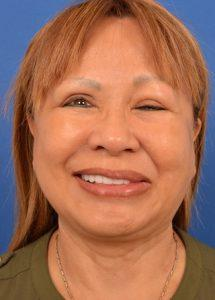strokeEyeSevere: (52, 76, 179, 121)
strokeMouthWeak: (68, 158, 161, 203)
